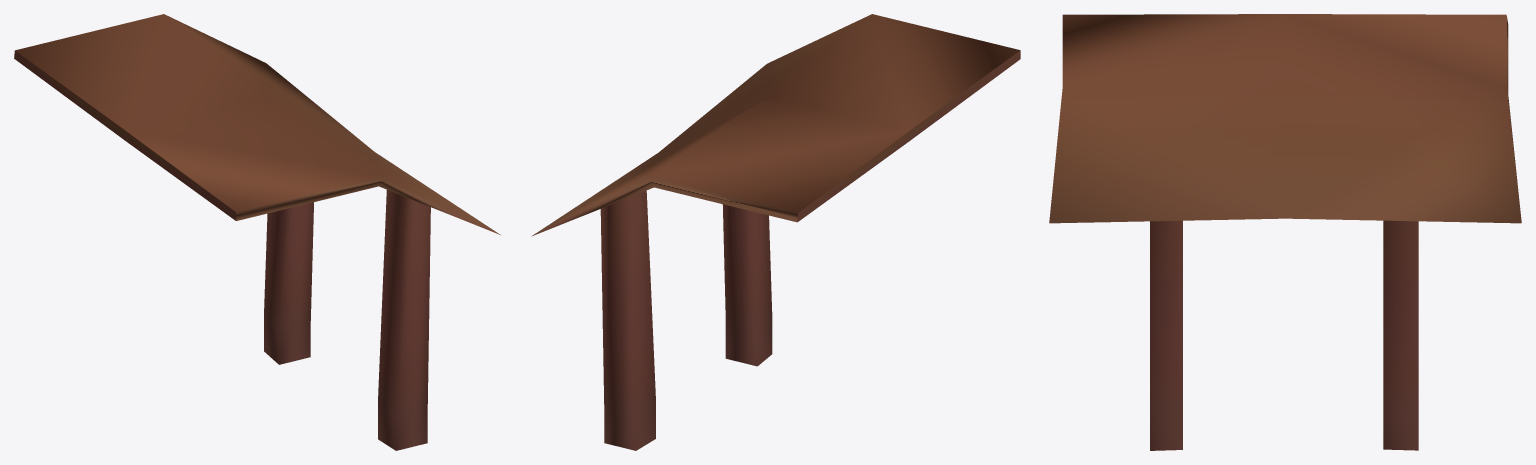
The model's file is CanopyRoof.glb.
3 views of the same model, side by side, from view 1: azimuth 30°, elevation 25°; view 2: azimuth 150°, elevation 25°; view 3: azimuth 270°, elevation 25° (orthographic).
Visible parts, largest first — view 1: CanopyRoof; view 2: CanopyRoof; view 3: CanopyRoof.
Boxes of the visible parts, x1,y1,x2,y2 form: CanopyRoof: [14, 14, 500, 450]; CanopyRoof: [531, 14, 1020, 450]; CanopyRoof: [1049, 14, 1521, 450].
Bounding box in the file's own units: 5.91 × 6.99 × 9.31.
1 material, 1 textured.
